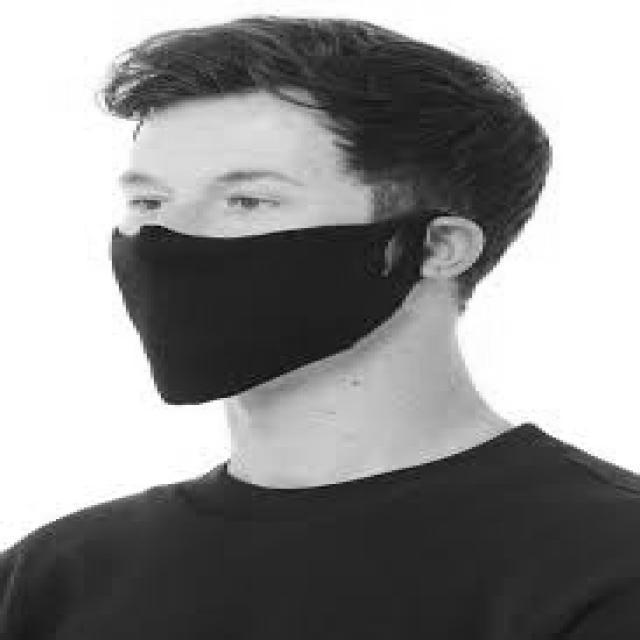fake: (91, 210, 463, 413)
real: (115, 88, 386, 407)
